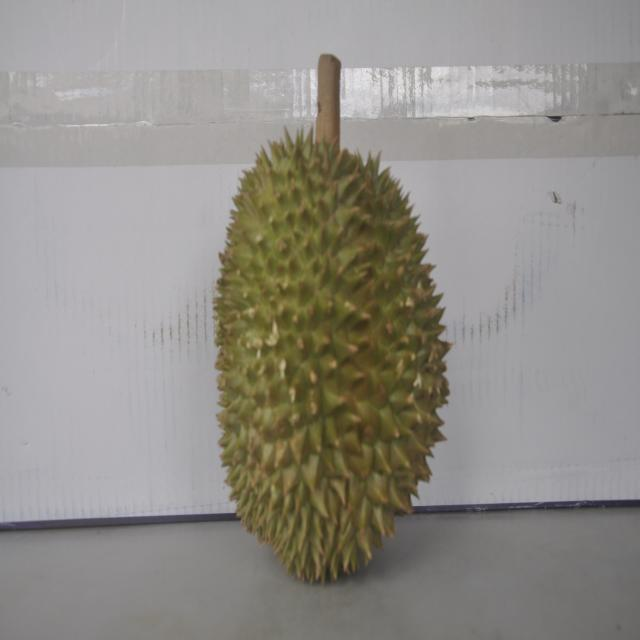mature: (209, 117, 447, 582)
